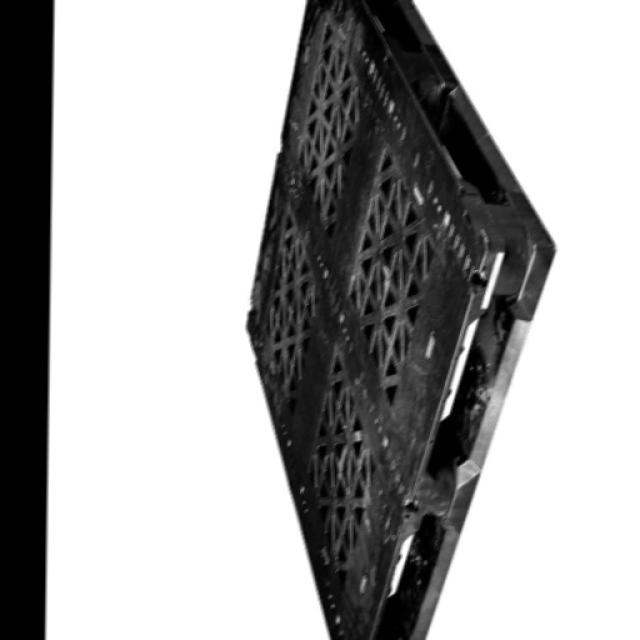non-igps: (242, 1, 560, 640)
